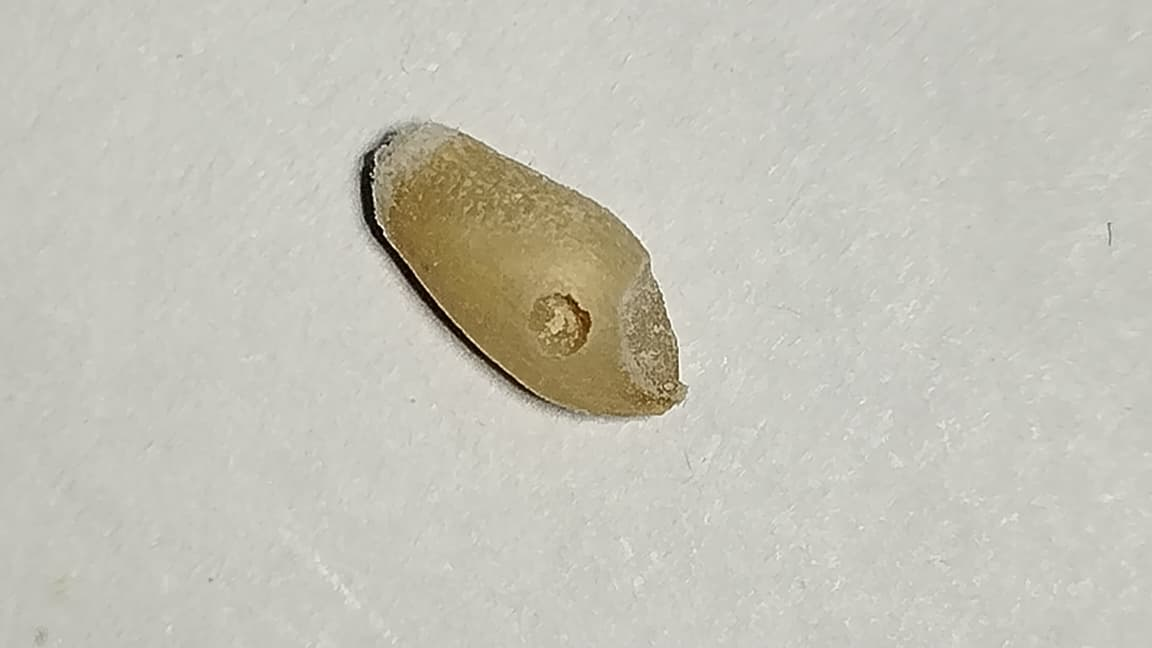damage: (363, 119, 686, 413)
insectdamage: (623, 253, 699, 406), (530, 276, 605, 371)
